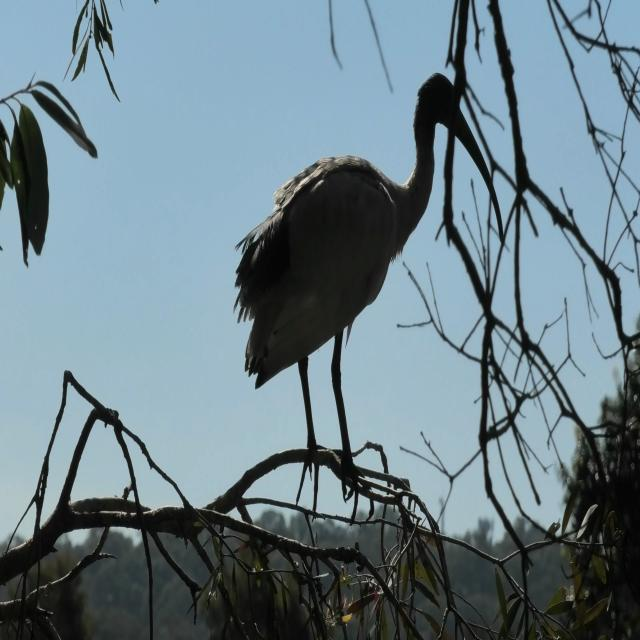Birds-Ibis: (230, 67, 506, 531)
